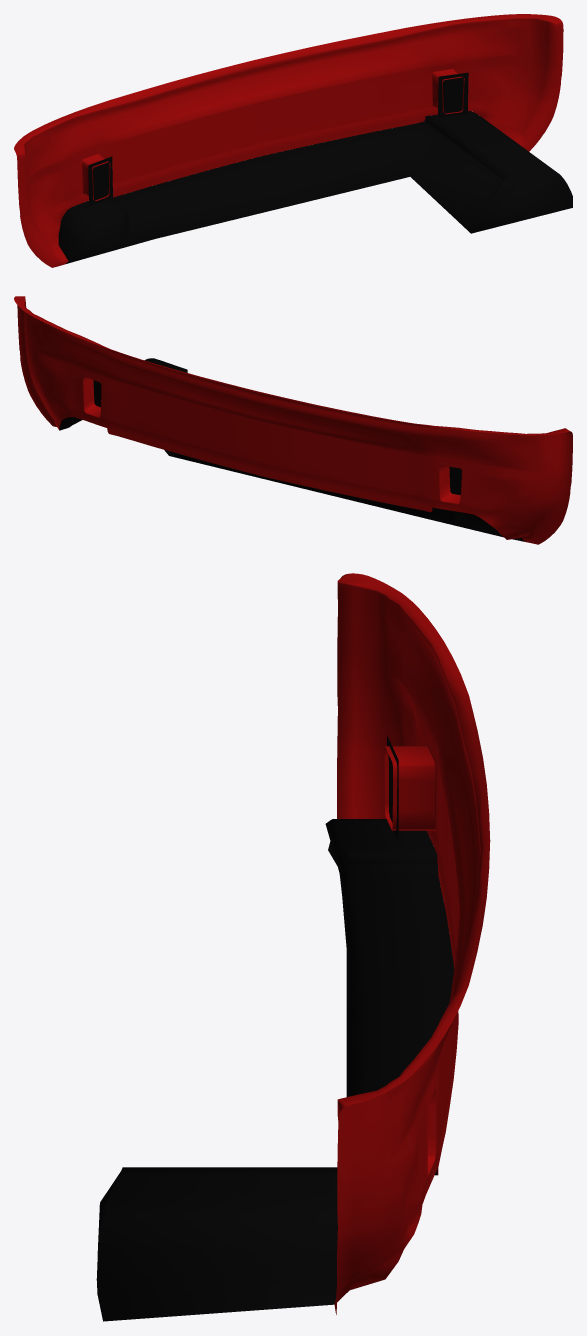
The model's file is rearbumper_none.glb.
The picture shows the model from 3 angles, top to bottom: view 1: azimuth 30°, elevation 25°; view 2: azimuth 150°, elevation 25°; view 3: azimuth 270°, elevation 25°; orthographic projection. The views are drawn at different scales.
Parts seen in each view (by area): view 1: nobumper, undercarriage; view 2: nobumper, undercarriage; view 3: undercarriage, nobumper.
Boxes of the visible parts, x1,y1,x2,y2 form: nobumper: [14, 14, 563, 267]; undercarriage: [58, 72, 572, 264]; nobumper: [14, 296, 572, 544]; undercarriage: [59, 358, 524, 541]; undercarriage: [96, 735, 454, 1321]; nobumper: [334, 573, 490, 1314].
Size of the model in its own units: 1.6 by 0.3721 by 0.4997.
